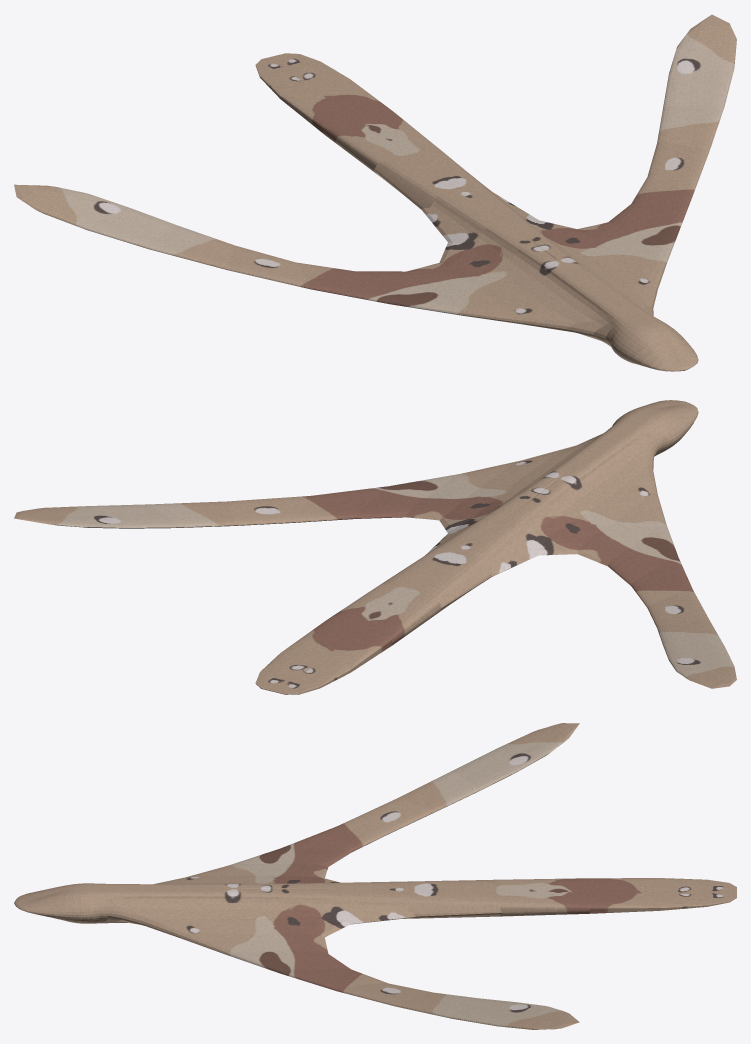
The model's file is jaskółka.fbx.
The picture shows the model from 3 angles, top to bottom: view 1: azimuth 30°, elevation 25°; view 2: azimuth 150°, elevation 25°; view 3: azimuth 270°, elevation 25°; orthographic projection. The views are drawn at different scales.
Visible parts, largest first — view 1: Cube; view 2: Cube; view 3: Cube.
Boxes of the visible parts, x1,y1,x2,y2 form: Cube: [14, 14, 736, 371]; Cube: [14, 400, 736, 694]; Cube: [14, 723, 736, 1029].
Size of the model in its own units: 4416 by 306 by 4420.
1 material, 1 textured.
